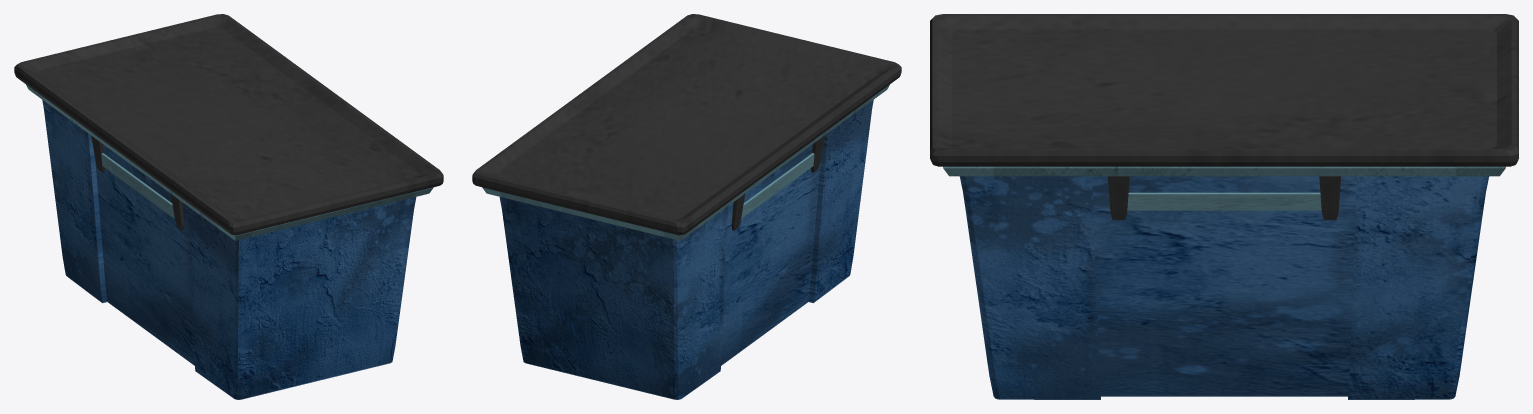
The model's file is 보관상자3.fbx.
The picture shows the model from 3 angles, left to right: view 1: azimuth 30°, elevation 25°; view 2: azimuth 150°, elevation 25°; view 3: azimuth 270°, elevation 25°; orthographic projection. The views are drawn at different scales.
Parts seen in each view (by area): view 1: Cube, Cube.002, Cube.001, Cube.004, Cube.003; view 2: Cube, Cube.002, Cube.001, Cube.004, Cube.003; view 3: Cube, Cube.002, Cube.001, Cube.004, Cube.003.
Boxes of the visible parts, x1,y1,x2,y2 form: Cube: (42,100,416,399); Cube.002: (14,14,443,235); Cube.001: (26,84,433,240); Cube.004: (101,153,174,218); Cube.003: (91,136,184,230); Cube: (499,100,873,399); Cube.002: (472,14,901,235); Cube.001: (482,84,889,240); Cube.004: (741,153,814,218); Cube.003: (731,136,824,230); Cube: (959,176,1489,399); Cube.002: (930,14,1518,166); Cube.001: (943,166,1505,176); Cube.004: (1127,192,1321,210); Cube.003: (1108,176,1340,220).
Size of the model in its own units: 297 by 265 by 532.
Materials: 3 (3 with a texture image).
